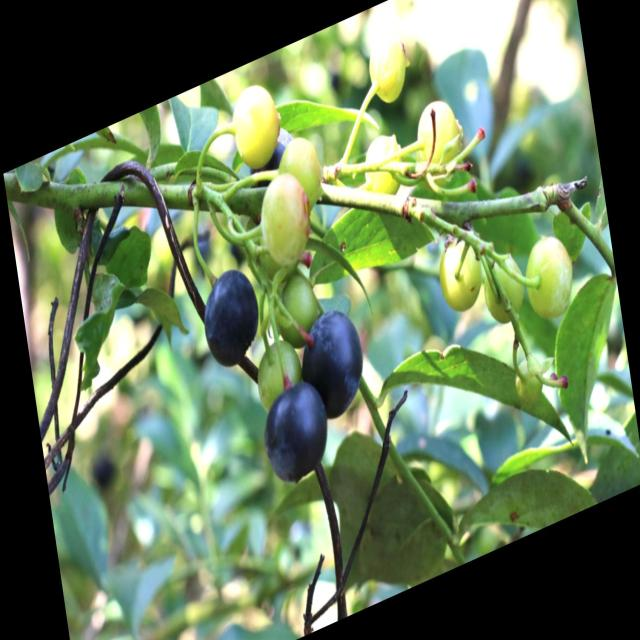blueberry: (295, 294, 369, 425), (255, 370, 333, 493), (199, 255, 264, 375)
blueberry-unripe: (225, 72, 285, 176), (258, 166, 316, 272), (520, 224, 578, 327), (434, 225, 485, 319), (270, 270, 326, 354), (413, 92, 462, 178), (277, 129, 324, 216), (360, 124, 406, 207), (366, 28, 412, 110), (480, 249, 527, 328), (252, 338, 300, 410), (512, 350, 546, 410)
